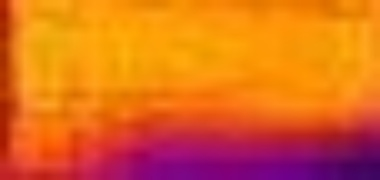Shadow: (102, 121, 380, 179)
